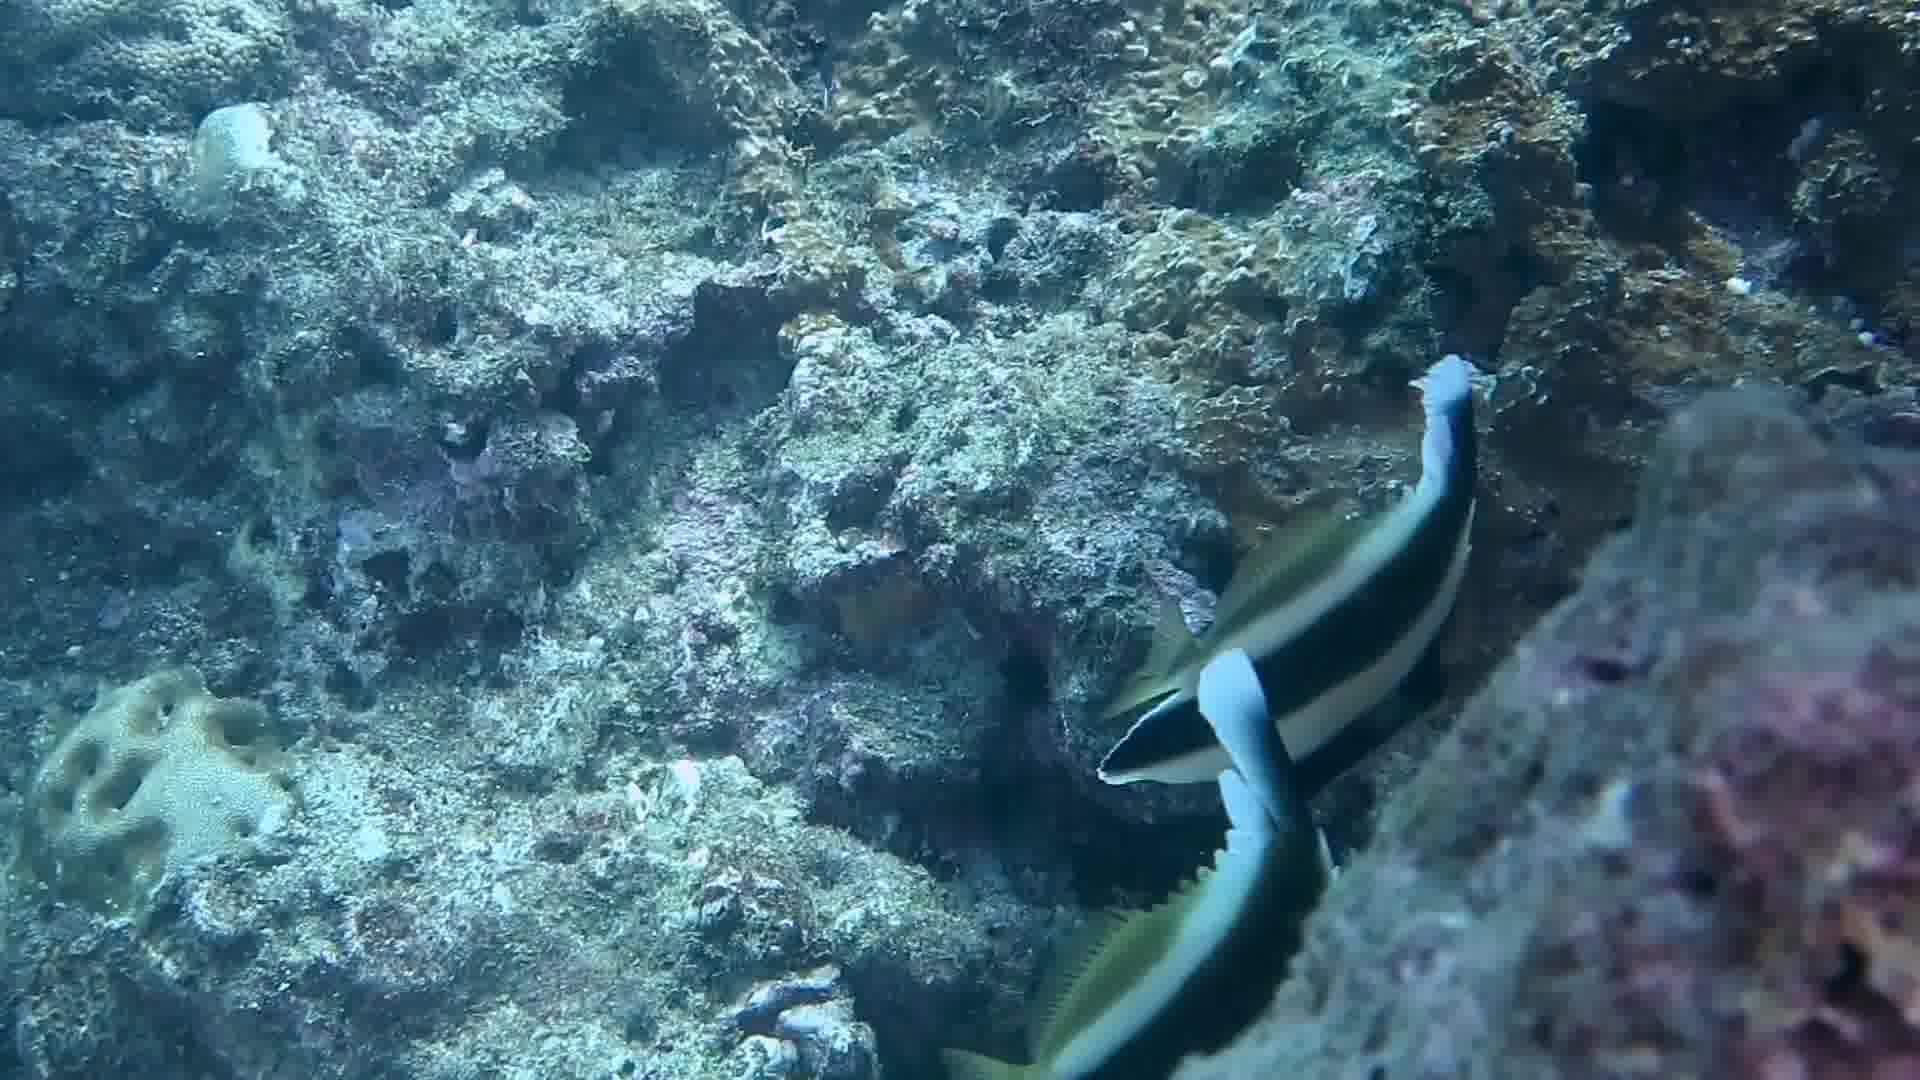Heniochus chrysostomus: (1084, 349, 1513, 779), (1010, 717, 1335, 1080)
